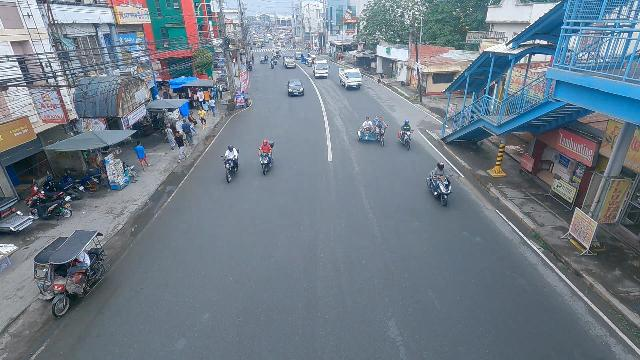car: (286, 79, 305, 97), (295, 52, 302, 60)
jeepney: (282, 53, 296, 69)
motorcycle: (426, 167, 454, 207), (257, 137, 277, 175), (222, 143, 240, 184), (397, 123, 414, 150), (269, 59, 275, 69), (274, 56, 278, 64), (307, 49, 311, 57), (278, 49, 282, 56)
truck: (338, 67, 363, 89), (312, 60, 329, 79)
van: (273, 44, 281, 53)
